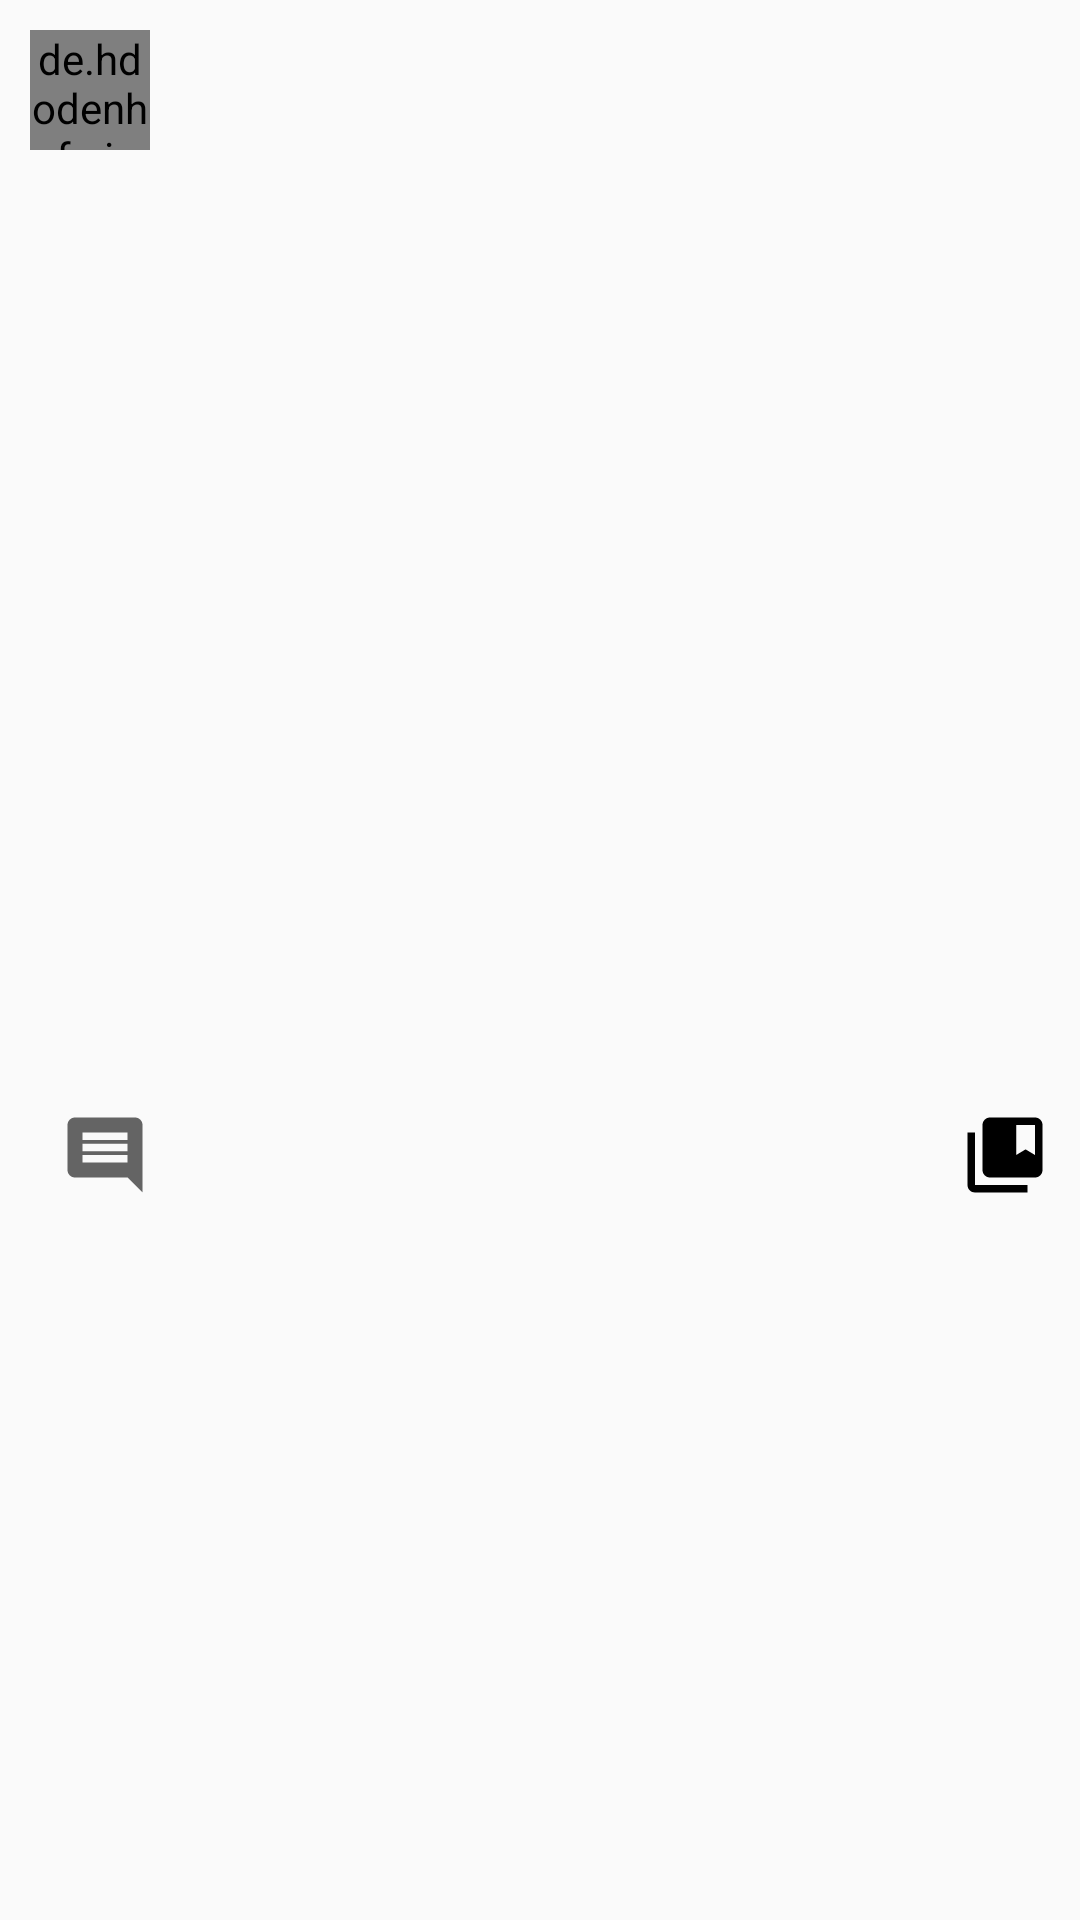

Icon bounding boxes for this 1080×1920 phone screenshot, format (x1, y1, x2, y2):
comment hitam: (67, 1117, 143, 1192)
simpan hitam: (967, 1117, 1043, 1193)
